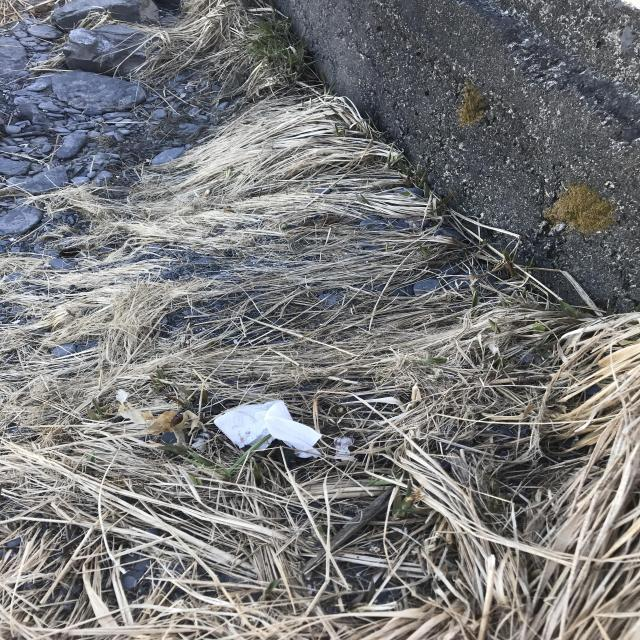litter: (204, 398, 321, 454), (334, 436, 355, 460)
